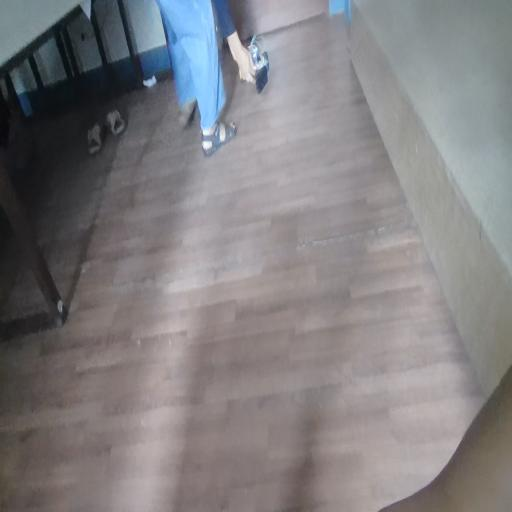car: (247, 49, 277, 92)
